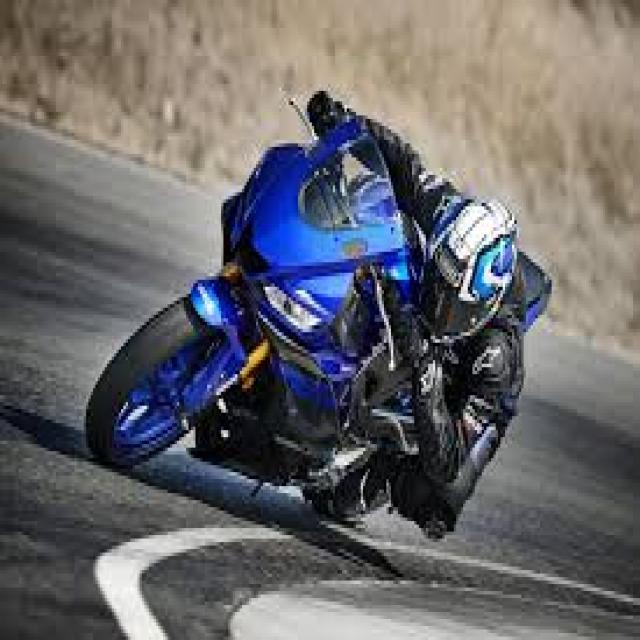Bike: (84, 99, 554, 525)
